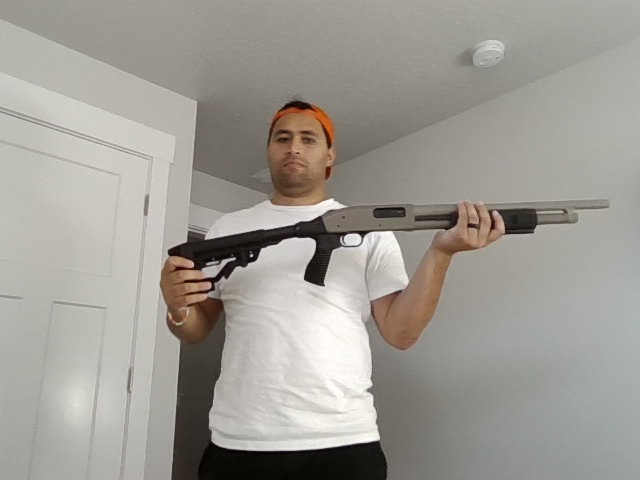shotgun: (167, 197, 611, 289)
